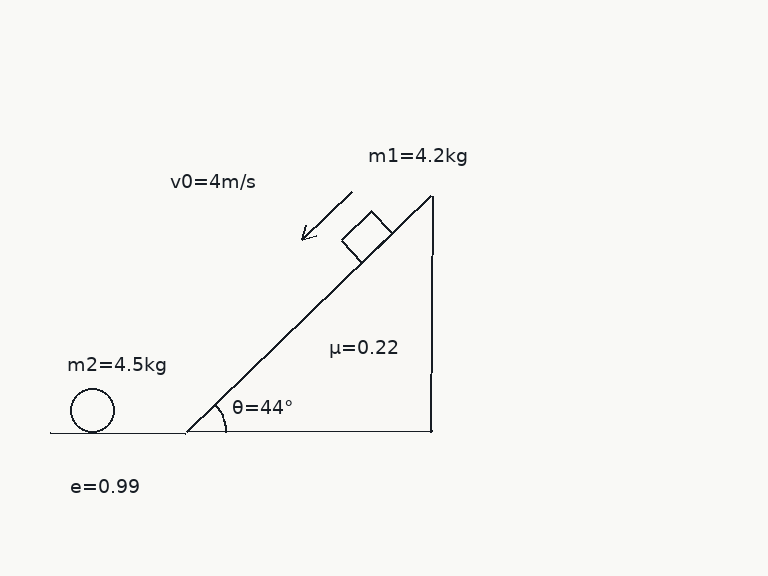ball: (68, 386, 116, 434)
block: (339, 209, 394, 264)
ramp: (184, 194, 433, 434)
